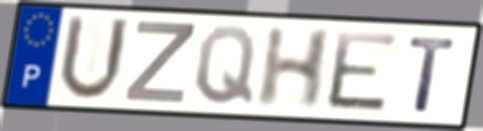E: (325, 28, 401, 115)
H: (253, 26, 337, 111)
Q: (192, 23, 259, 108)
T: (406, 35, 461, 115)
U: (54, 12, 133, 105)
Z: (120, 18, 198, 106)
